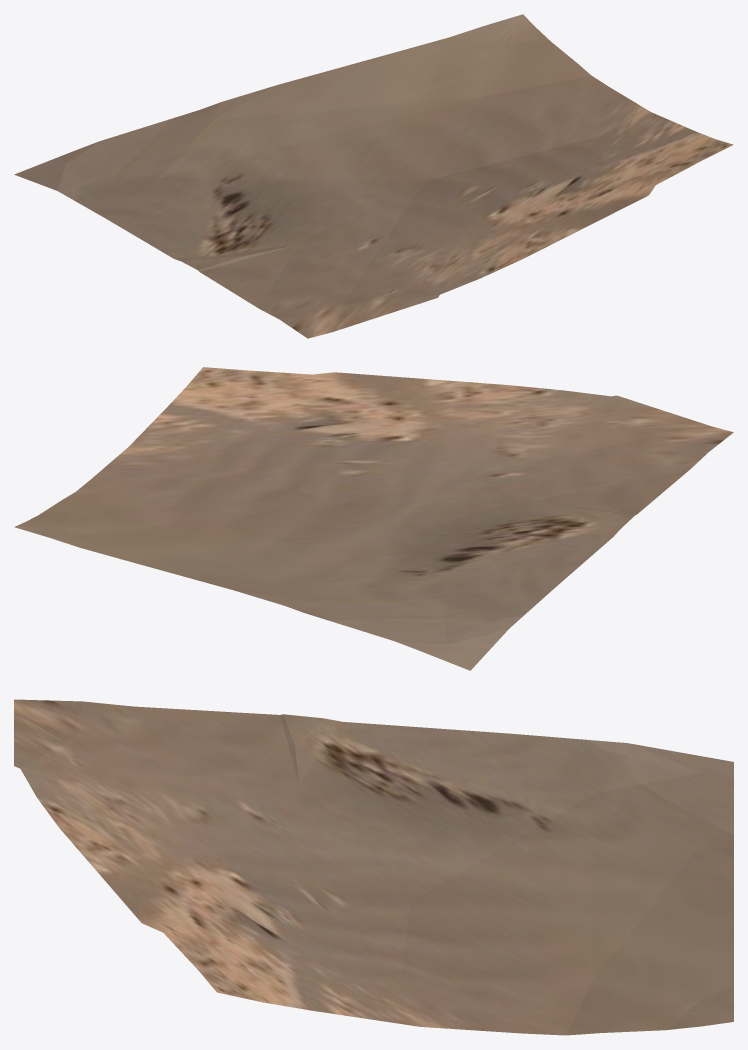
3 renders of one model, top to bottom at view 1: azimuth 30°, elevation 25°; view 2: azimuth 150°, elevation 25°; view 3: azimuth 270°, elevation 25°, orthographic. The views are drawn at different scales.
Size of the model in its own units: 1.04 by 0.118 by 1.04.
2 materials, 2 textured.
